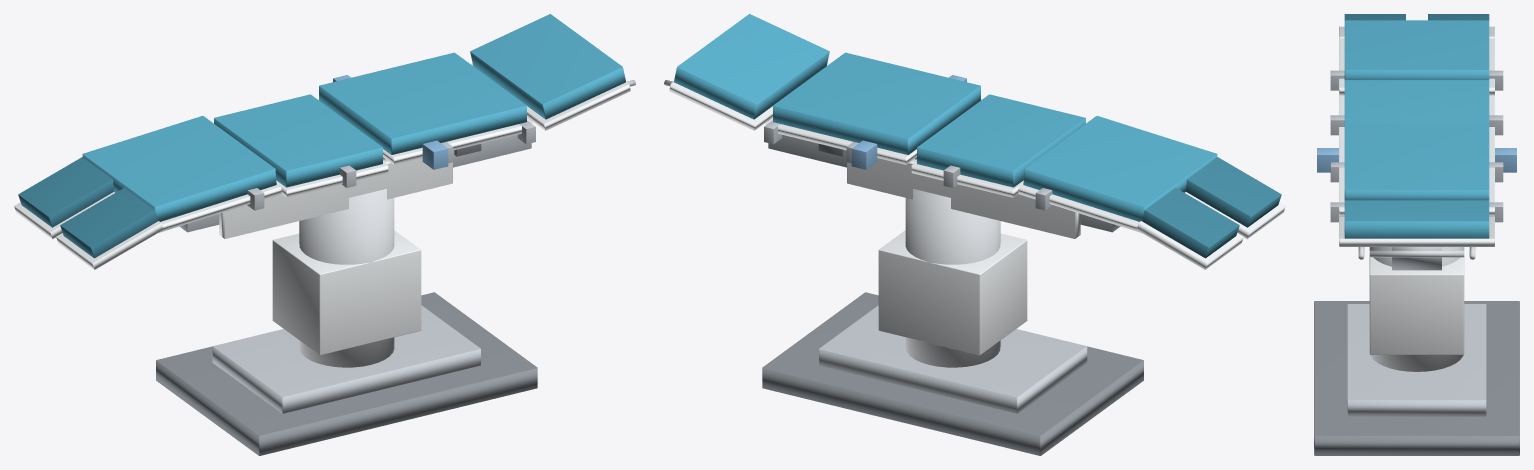
The model's file is pat.fbx.
The picture shows the model from 3 angles, left to right: view 1: azimuth 30°, elevation 25°; view 2: azimuth 150°, elevation 25°; view 3: azimuth 270°, elevation 25°; orthographic projection.
Visible parts, largest first — view 1: Base_Main, Column_Shroud, Back_Pad, Base_Upper, Leg_Pad, Head_Pad, Seat_Pad, Central_Column, SideCover_R, Foot_Pad_R, Foot_Pad_L, Support_Beam (+7 smaller); view 2: Base_Main, Column_Shroud, Back_Pad, Base_Upper, Leg_Pad, Head_Pad, Seat_Pad, Central_Column, SideCover_L, Foot_Pad_L, Foot_Pad_R, Support_Beam (+7 smaller); view 3: Base_Main, Back_Pad, Base_Upper, Leg_Pad, Column_Shroud, Seat_Pad, Head_Pad, Head_Tray, Central_Column, Support_Beam, Back_Tray, Head_Frame (+14 smaller).
Part boxes in pixels (bbox=[...]): Base_Main: bbox=[156, 292, 537, 455]; Column_Shroud: bbox=[272, 230, 421, 355]; Back_Pad: bbox=[319, 52, 526, 154]; Base_Upper: bbox=[212, 305, 480, 413]; Leg_Pad: bbox=[82, 116, 276, 221]; Head_Pad: bbox=[470, 14, 625, 119]; Seat_Pad: bbox=[214, 94, 382, 187]; Central_Column: bbox=[299, 189, 394, 367]; SideCover_R: bbox=[219, 158, 452, 238]; Foot_Pad_R: bbox=[60, 187, 158, 258]; Foot_Pad_L: bbox=[18, 157, 113, 227]; Support_Beam: bbox=[179, 120, 531, 232]; Base_Main: bbox=[762, 292, 1143, 455]; Column_Shroud: bbox=[878, 230, 1027, 355]; Back_Pad: bbox=[773, 52, 980, 154]; Base_Upper: bbox=[819, 305, 1087, 413]; Leg_Pad: bbox=[1023, 116, 1217, 221]; Head_Pad: bbox=[674, 14, 829, 119]; Seat_Pad: bbox=[917, 94, 1085, 187]; Central_Column: bbox=[905, 189, 1000, 367]; SideCover_L: bbox=[847, 158, 1080, 238]; Foot_Pad_L: bbox=[1141, 187, 1239, 258]; Foot_Pad_R: bbox=[1186, 157, 1281, 227]; Support_Beam: bbox=[768, 120, 1120, 232]; Base_Main: bbox=[1314, 301, 1519, 455]; Back_Pad: bbox=[1344, 124, 1489, 200]; Base_Upper: bbox=[1347, 304, 1486, 416]; Leg_Pad: bbox=[1344, 20, 1489, 79]; Column_Shroud: bbox=[1369, 257, 1464, 354]; Seat_Pad: bbox=[1344, 80, 1489, 124]; Head_Pad: bbox=[1344, 200, 1489, 238]; Head_Tray: bbox=[1339, 216, 1494, 246]; Central_Column: bbox=[1369, 247, 1464, 371]; Support_Beam: bbox=[1392, 247, 1441, 270]; Back_Tray: bbox=[1339, 140, 1494, 215]; Head_Frame: bbox=[1369, 250, 1464, 257].
Size of the model in its own units: 228 by 112 by 74.
